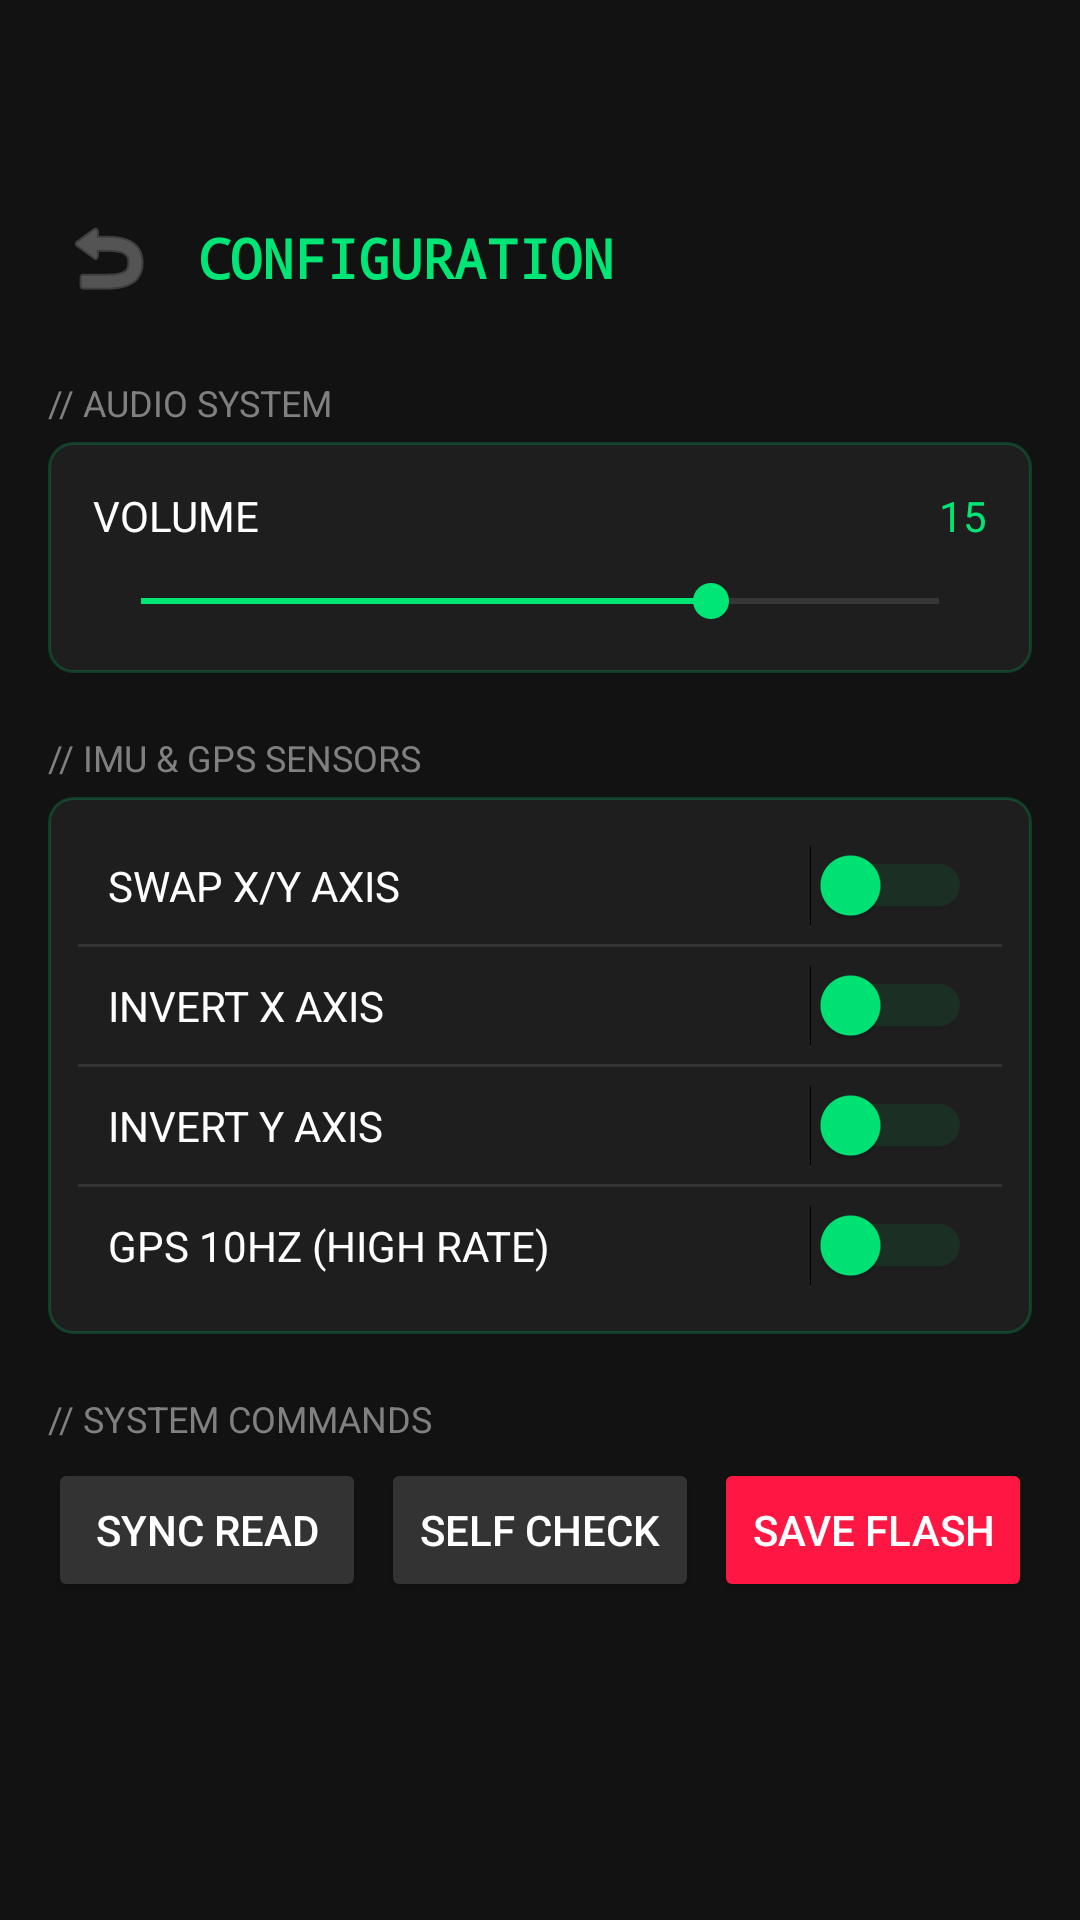

Icon bounding boxes for this 1080 × 1920 phone screenshot, format (x1, y1, x2, y2):
revert: (75, 228, 143, 290)
